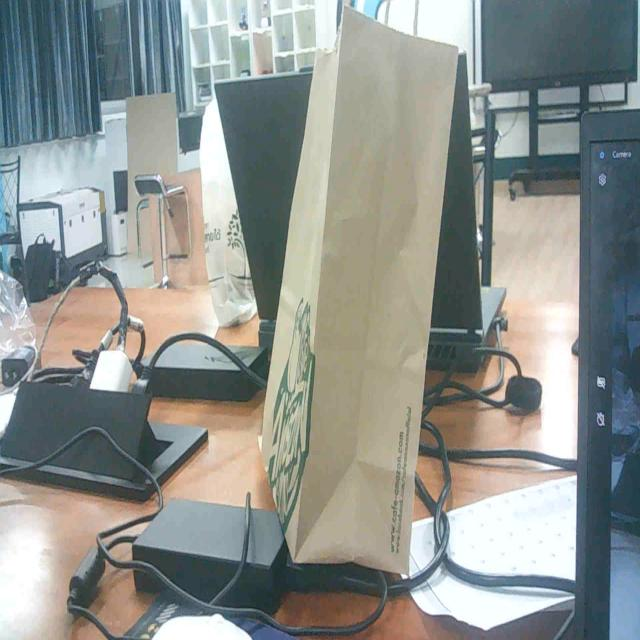bag: (255, 19, 481, 604)
